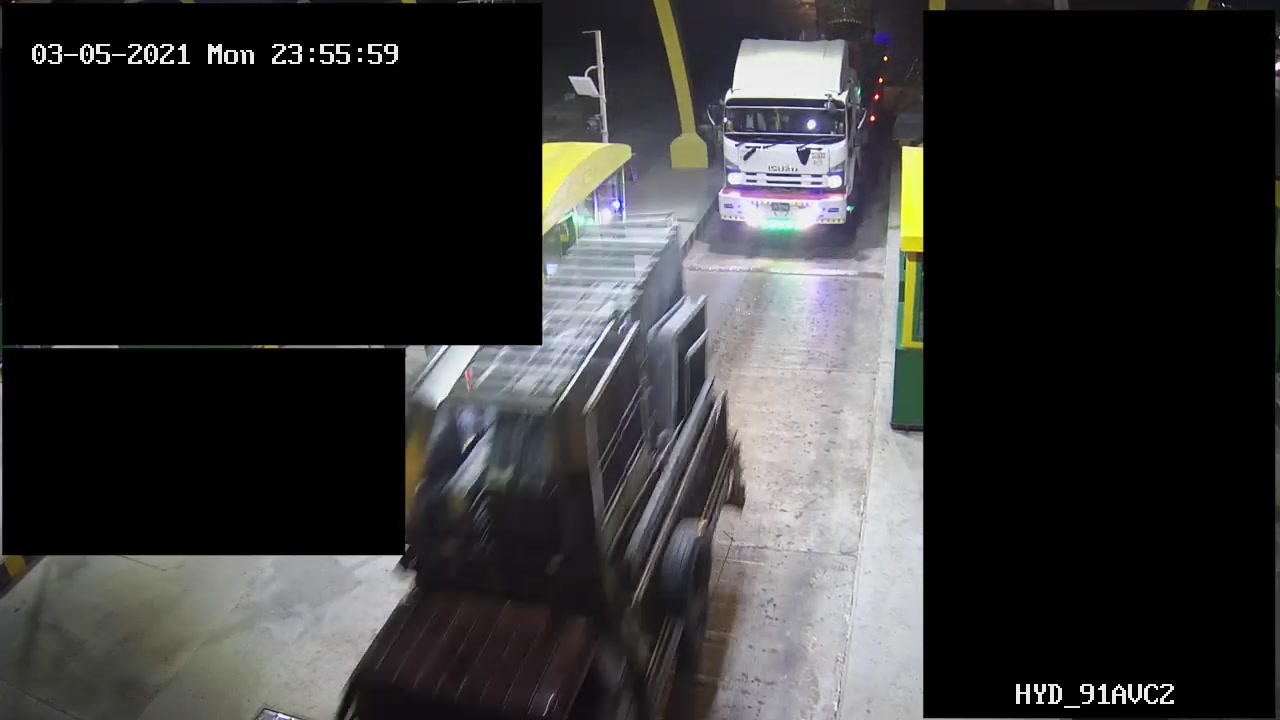F6: (711, 7, 885, 247)
